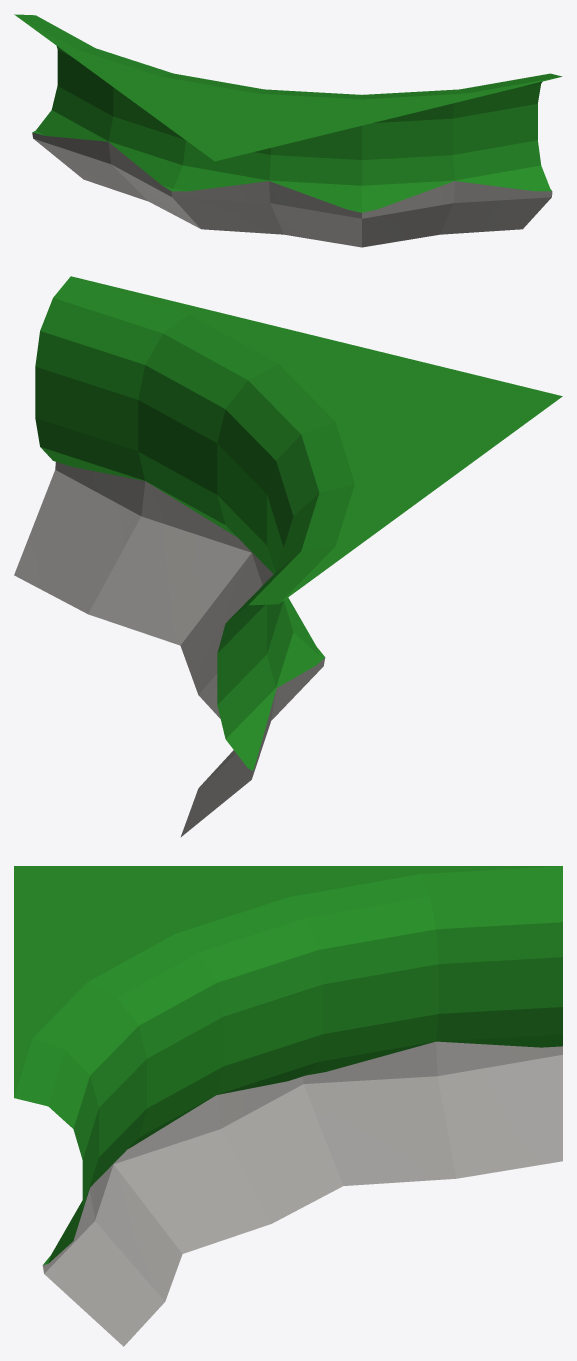
The model's file is Terrain_Cliff_1_Tall_Corner_Inner_2x2.obj.
The picture shows the model from 3 angles, top to bottom: view 1: azimuth 30°, elevation 25°; view 2: azimuth 150°, elevation 25°; view 3: azimuth 270°, elevation 25°; orthographic projection. The views are drawn at different scales.
Parts seen in each view (by area): view 1: Grass, Rock; view 2: Grass, Rock; view 3: Grass, Rock.
Part boxes in pixels (x1=…): Grass: x1=14, y1=14, x2=562, y2=212; Rock: x1=32, y1=132, x2=552, y2=247; Grass: x1=35, y1=276, x2=562, y2=770; Rock: x1=14, y1=462, x2=325, y2=836; Grass: x1=14, y1=866, x2=562, y2=1264; Rock: x1=42, y1=1041, x2=562, y2=1346.
Size of the model in its own units: 2 by 1 by 2.
